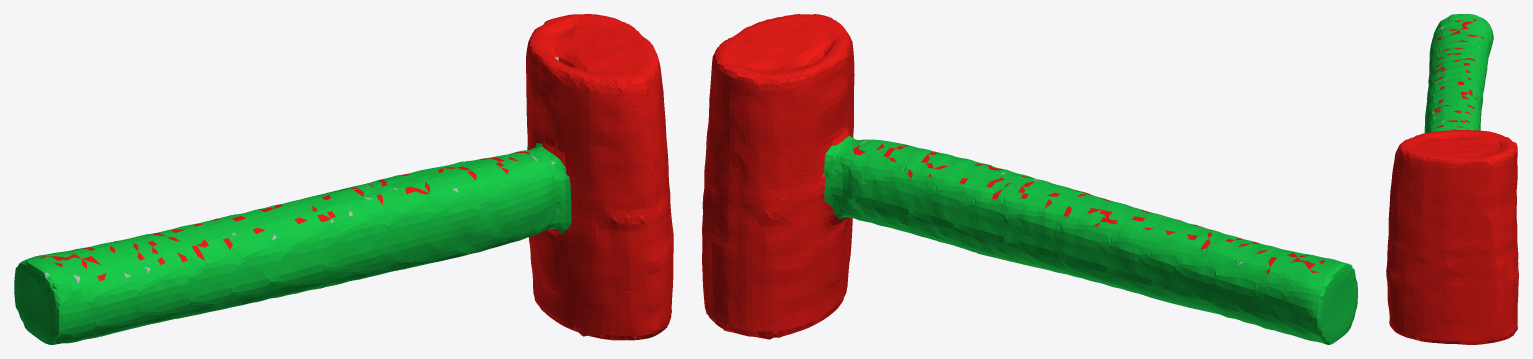
The model's file is mallet_hammer.obj.
The picture shows the model from 3 angles, left to right: view 1: azimuth 30°, elevation 25°; view 2: azimuth 150°, elevation 25°; view 3: azimuth 270°, elevation 25°; orthographic projection. The views are drawn at different scales.
Bounding box in the file's own units: 0.17 × 0.07 × 0.045.
